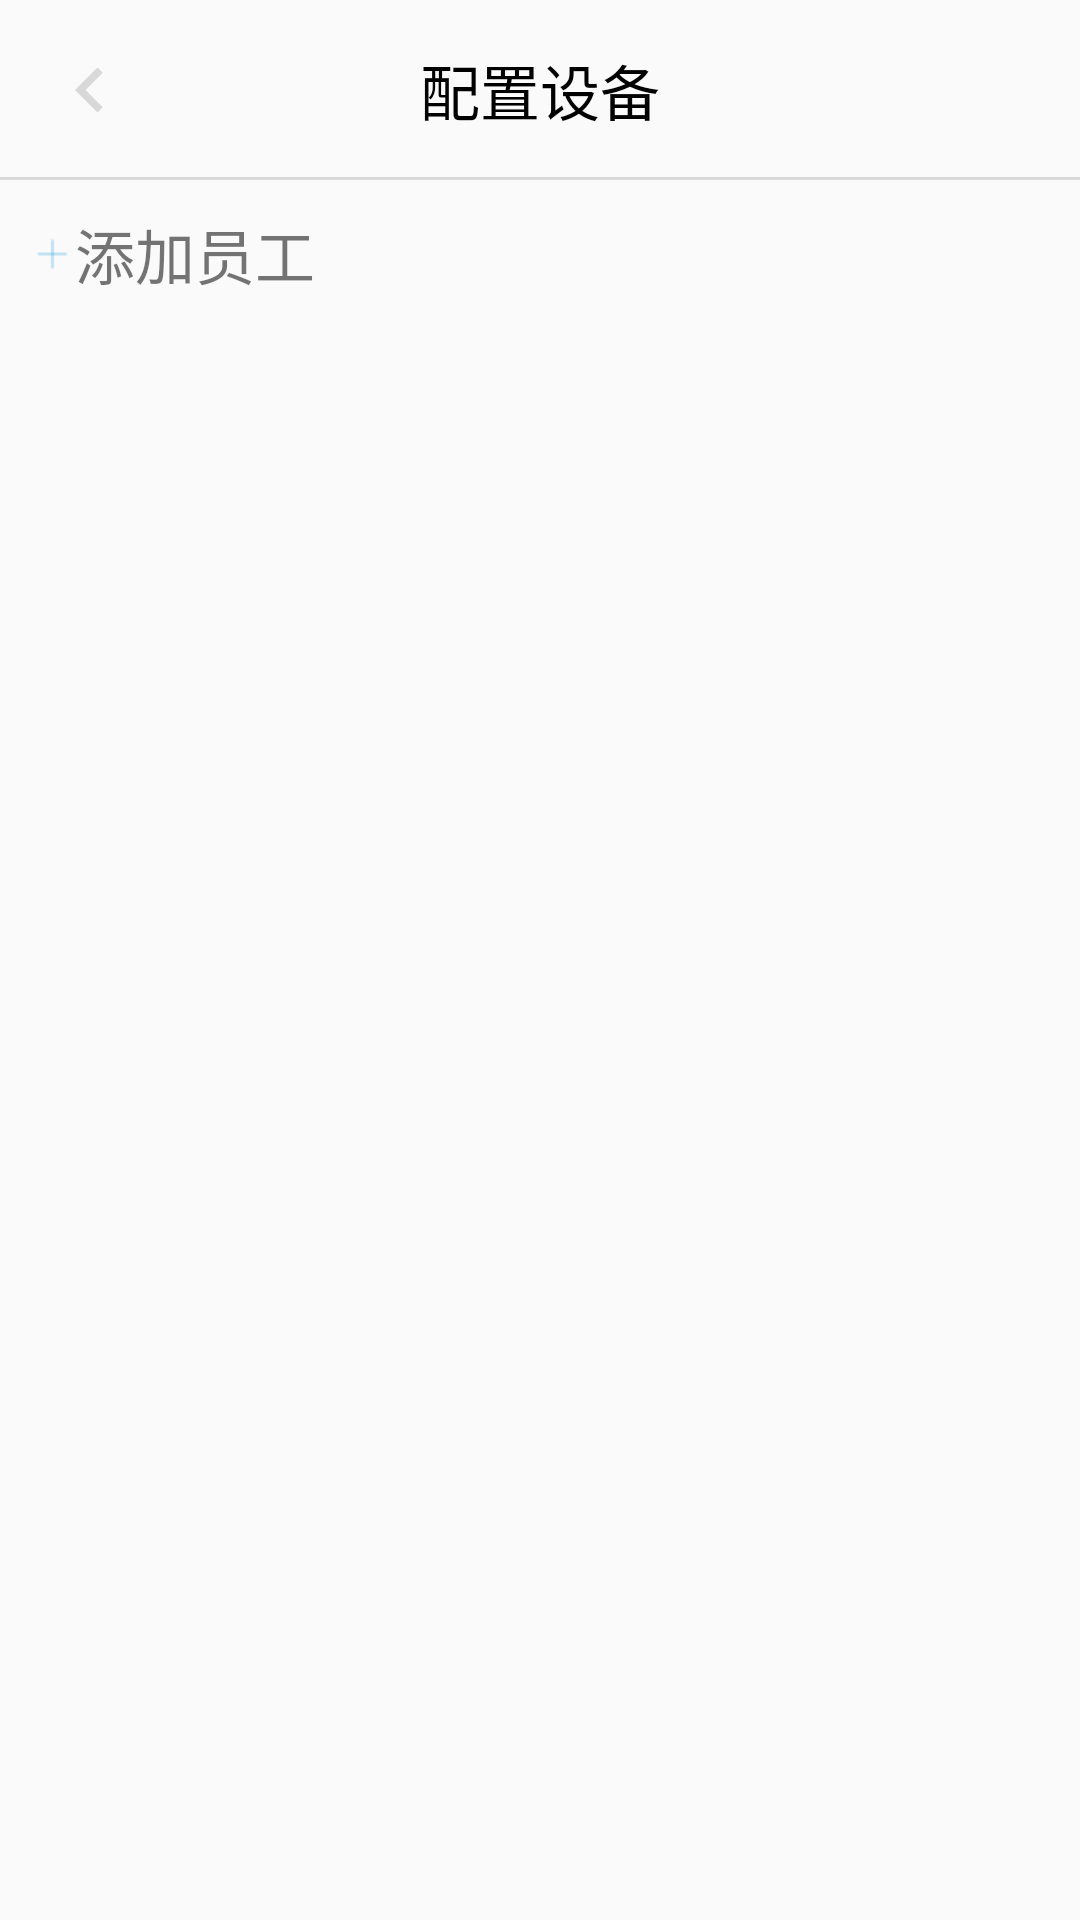

Icons on this 1080x1920 Android screen, each with its box as [x1, y1, x2, y2]:
left arrow: [76, 68, 102, 112]
